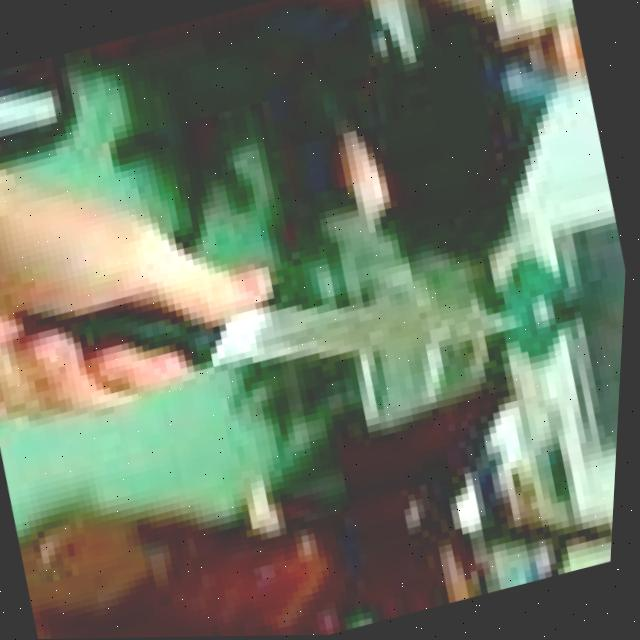knife: (13, 188, 527, 450)
